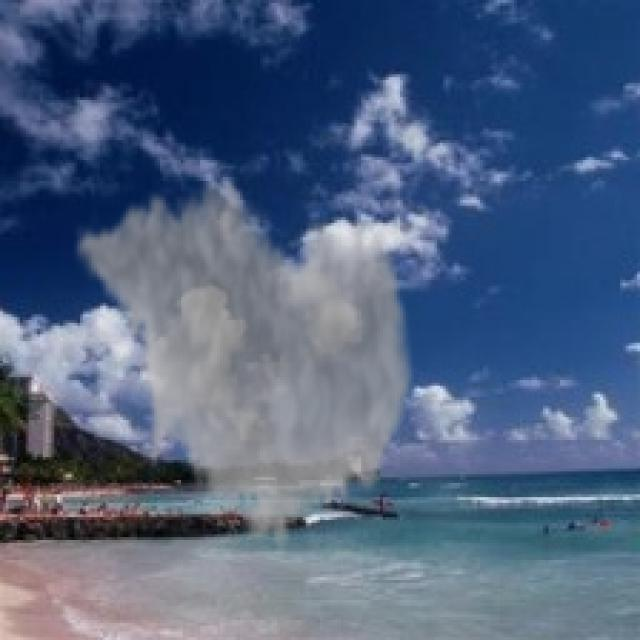smoke: (72, 166, 417, 557)
